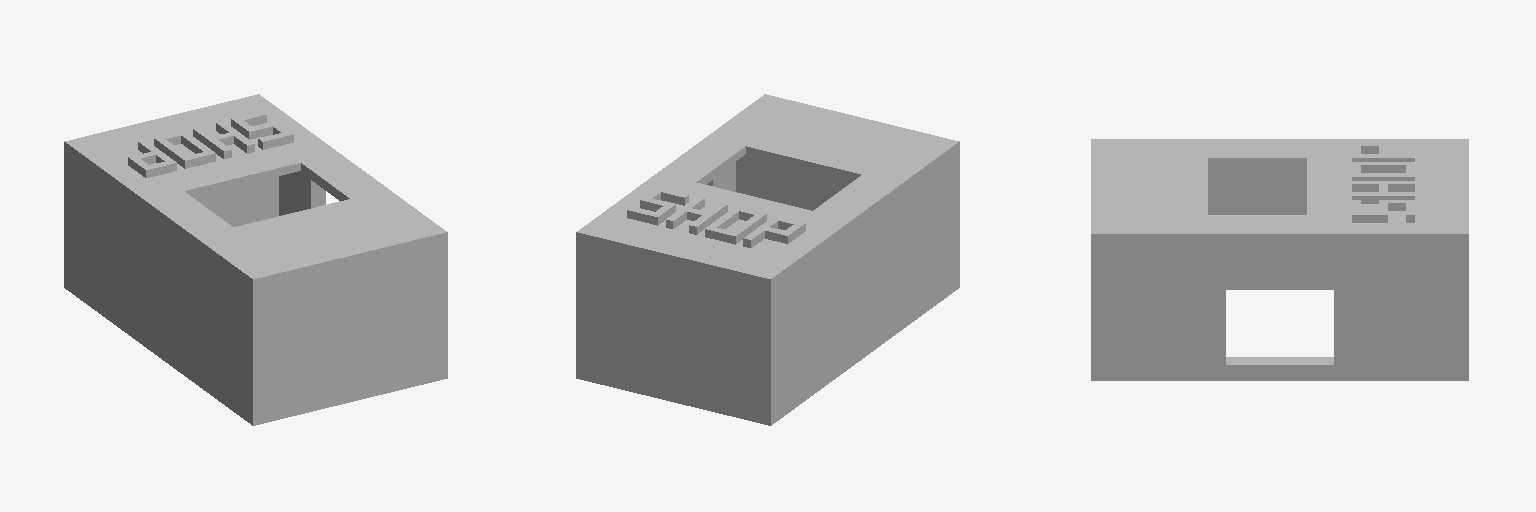
File: shop.obj
The picture shows the model from 3 angles: view 1: azimuth 30°, elevation 25°; view 2: azimuth 150°, elevation 25°; view 3: azimuth 270°, elevation 25°; orthographic projection.
Visible parts, largest first — view 1: object 1; view 2: object 1; view 3: object 1.
Boxes of the visible parts, x1=… form: object 1: x1=64, y1=94, x2=447, y2=425; object 1: x1=576, y1=94, x2=959, y2=425; object 1: x1=1091, y1=139, x2=1468, y2=380.
Size of the model in its own units: 2.5 by 1.9 by 4.2.